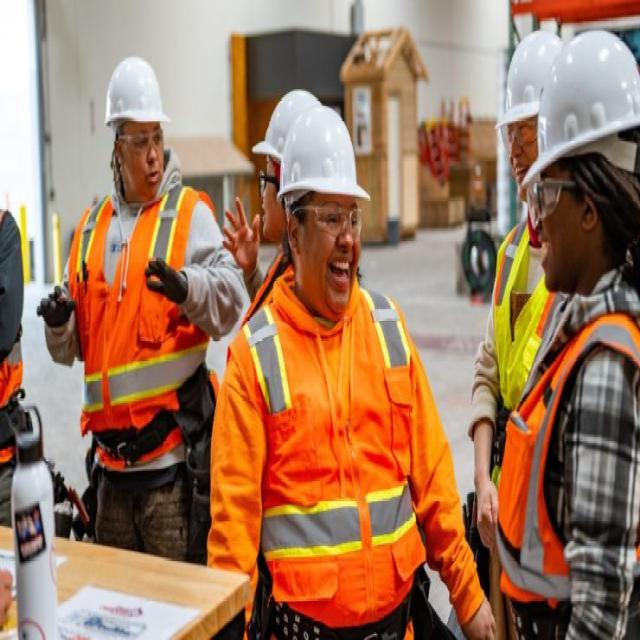goggles: (518, 152, 580, 214), (307, 193, 364, 249), (117, 125, 167, 156)
helmet: (529, 34, 633, 180), (274, 102, 370, 210), (99, 60, 189, 138)
vest: (207, 251, 451, 640), (66, 166, 216, 463)
